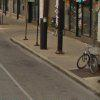Bicycle: (74, 41, 98, 77)
